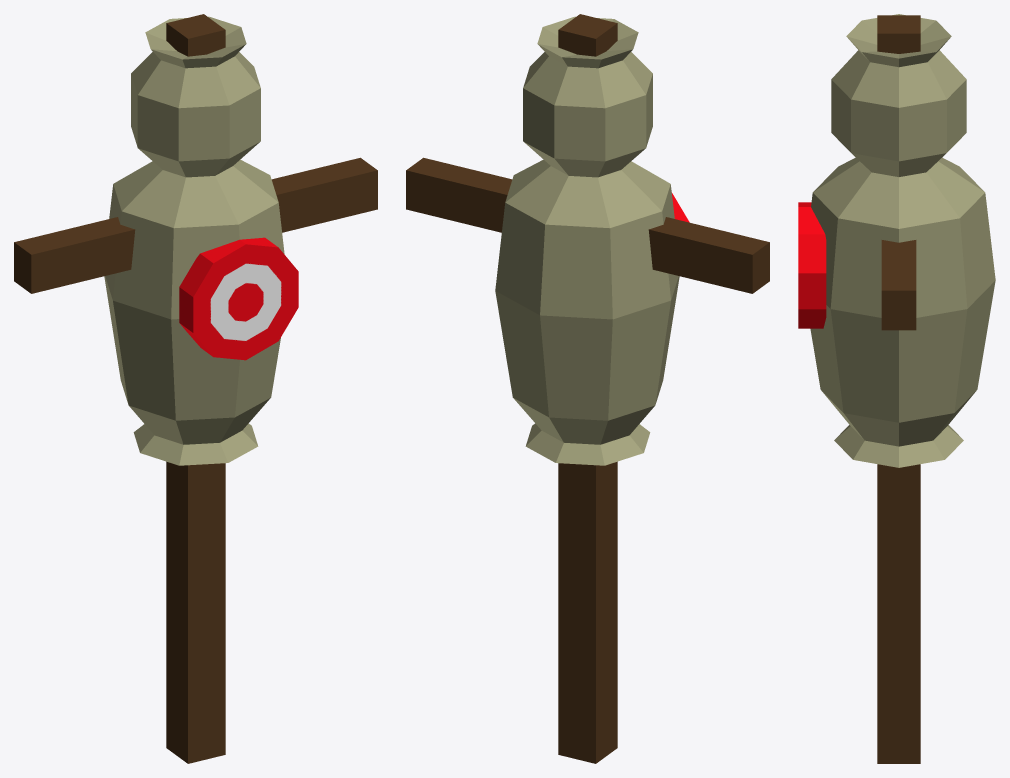
File: TrainingDummy1.obj
The picture shows the model from 3 angles, left to right: view 1: azimuth 30°, elevation 25°; view 2: azimuth 150°, elevation 25°; view 3: azimuth 270°, elevation 25°; orthographic projection.
Parts seen in each view (by area): view 1: Cube; view 2: Cube; view 3: Cube.
Boxes of the visible parts, box(x1,y1,x2,y2) form: Cube: box(14, 14, 377, 763); Cube: box(406, 14, 769, 763); Cube: box(798, 14, 995, 763).
Size of the model in its own units: 1 by 2 by 0.49.
1 material, 1 textured.
